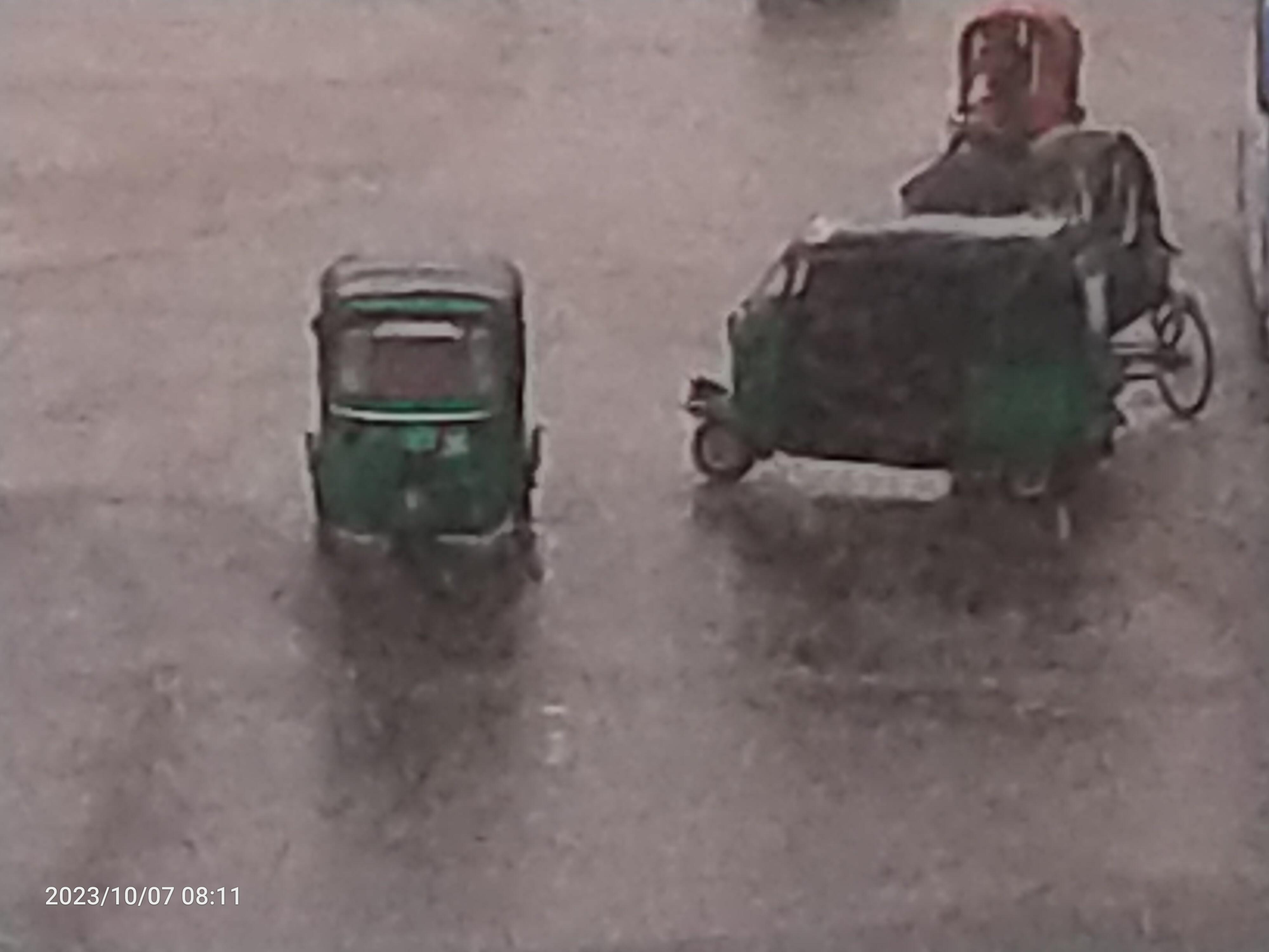Car: (994, 96, 1243, 462), (884, 0, 1079, 186)
